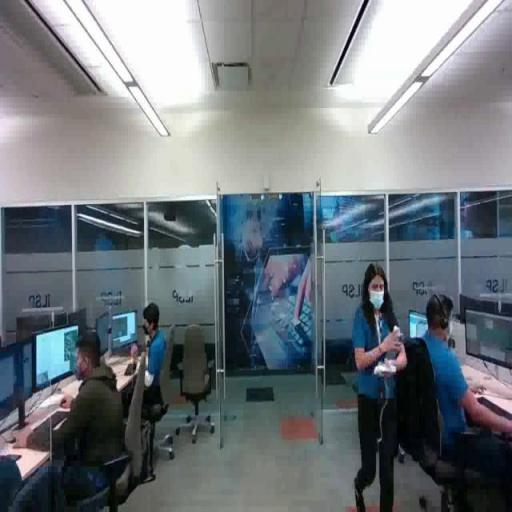person: (15, 327, 129, 512), (413, 288, 512, 494), (347, 261, 412, 512), (122, 301, 174, 442)
